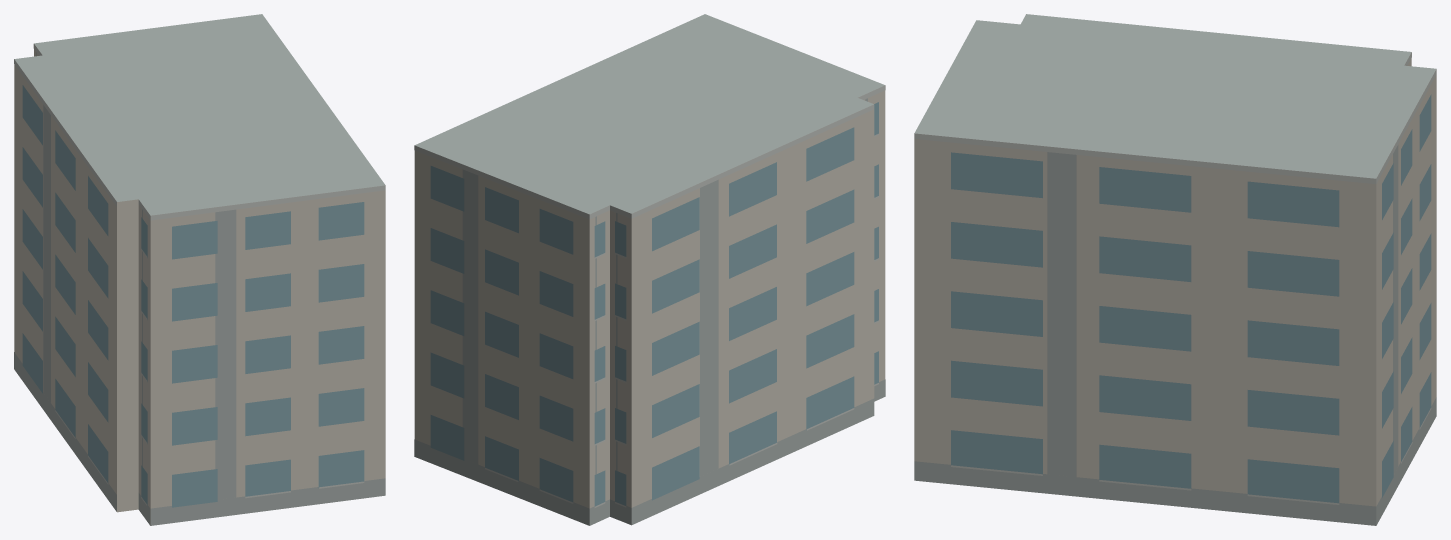
File: residential-344da279-06ad-4b71-b0c4-73c6b59c268f.glb
3 views of the same model, side by side, from view 1: azimuth 30°, elevation 25°; view 2: azimuth 150°, elevation 25°; view 3: azimuth 270°, elevation 25° (orthographic). The views are drawn at different scales.
Visible parts, largest first — view 1: residential-344da279-06ad-4b71-b0c4-73c6b59c268f.tmp; view 2: residential-344da279-06ad-4b71-b0c4-73c6b59c268f.tmp; view 3: residential-344da279-06ad-4b71-b0c4-73c6b59c268f.tmp.
Boxes of the visible parts, x1=… form: residential-344da279-06ad-4b71-b0c4-73c6b59c268f.tmp: x1=14, y1=14, x2=385, y2=525; residential-344da279-06ad-4b71-b0c4-73c6b59c268f.tmp: x1=414, y1=14, x2=885, y2=525; residential-344da279-06ad-4b71-b0c4-73c6b59c268f.tmp: x1=914, y1=14, x2=1436, y2=525.
Bounding box in the file's own units: 15.53 × 15.25 × 20.81.
